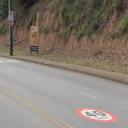speed_limit_40: (76, 108, 118, 123), (9, 11, 13, 17)
